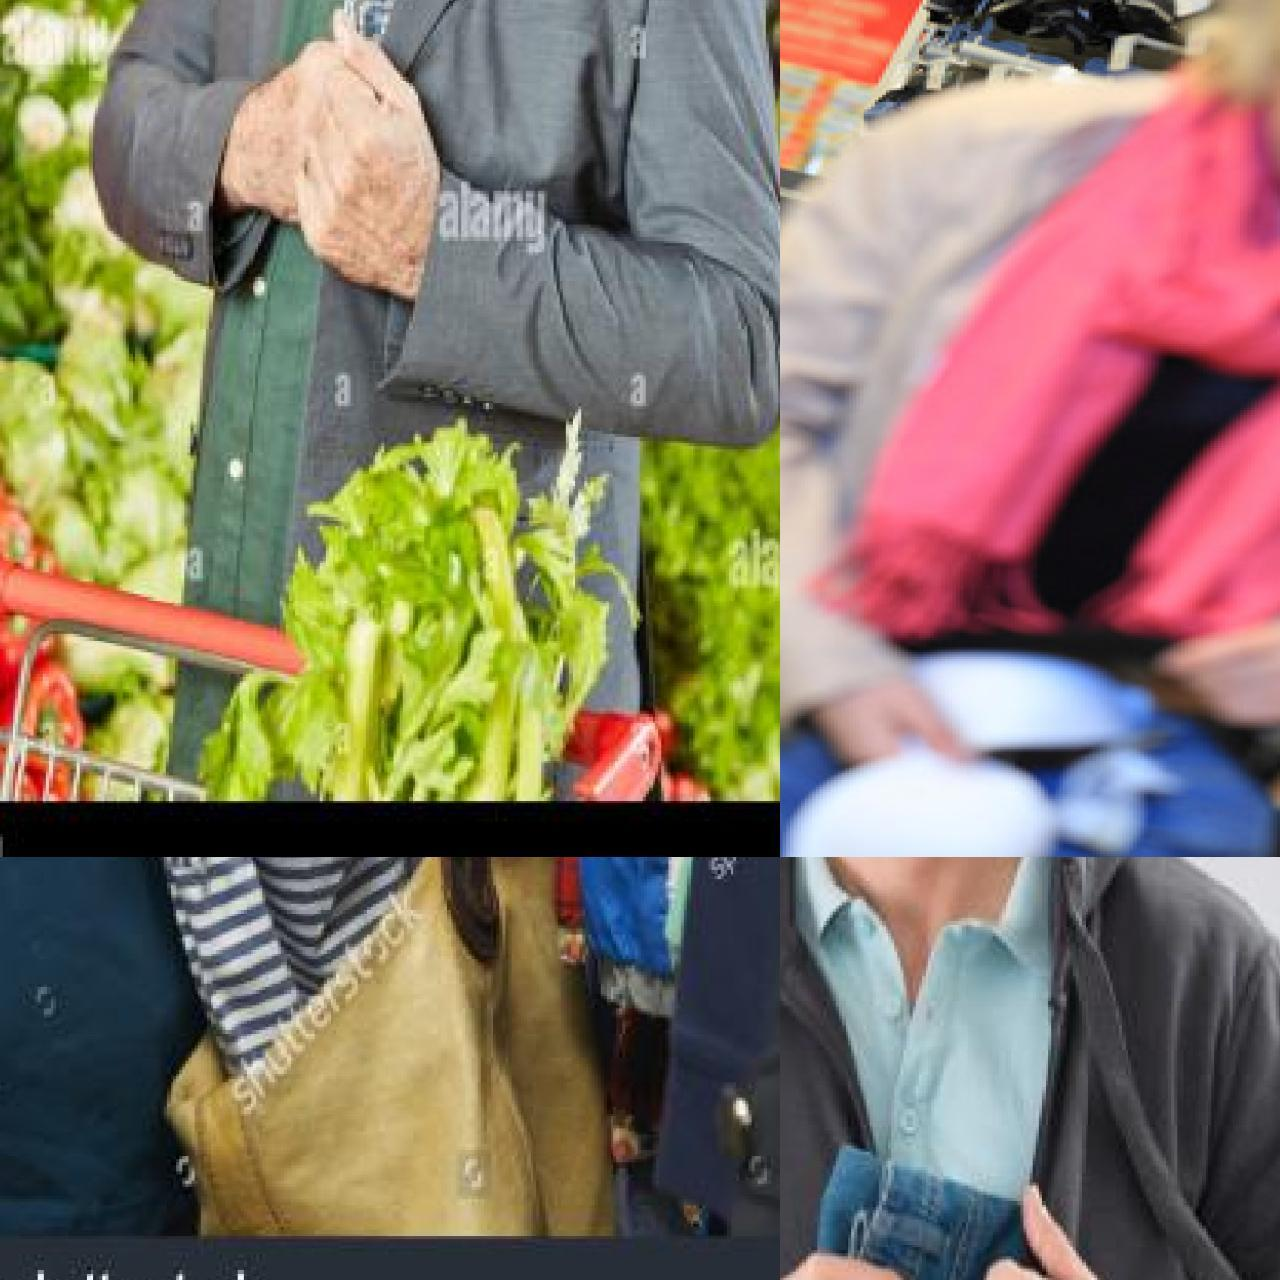Shoplifting: (0, 0, 756, 798), (779, 40, 1280, 857), (48, 857, 779, 1228), (779, 1124, 1280, 1280)
